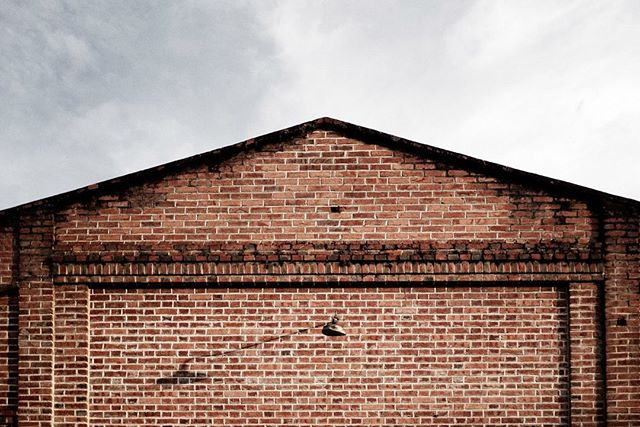building: (1, 114, 640, 427)
sky: (16, 1, 640, 172)
